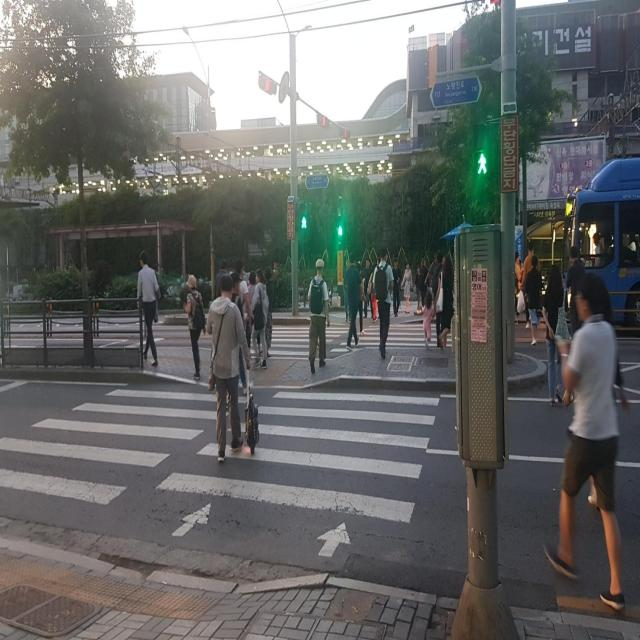초록불: (473, 125, 489, 198), (336, 206, 344, 247), (300, 206, 308, 238)
횡단보도: (0, 386, 442, 562)
